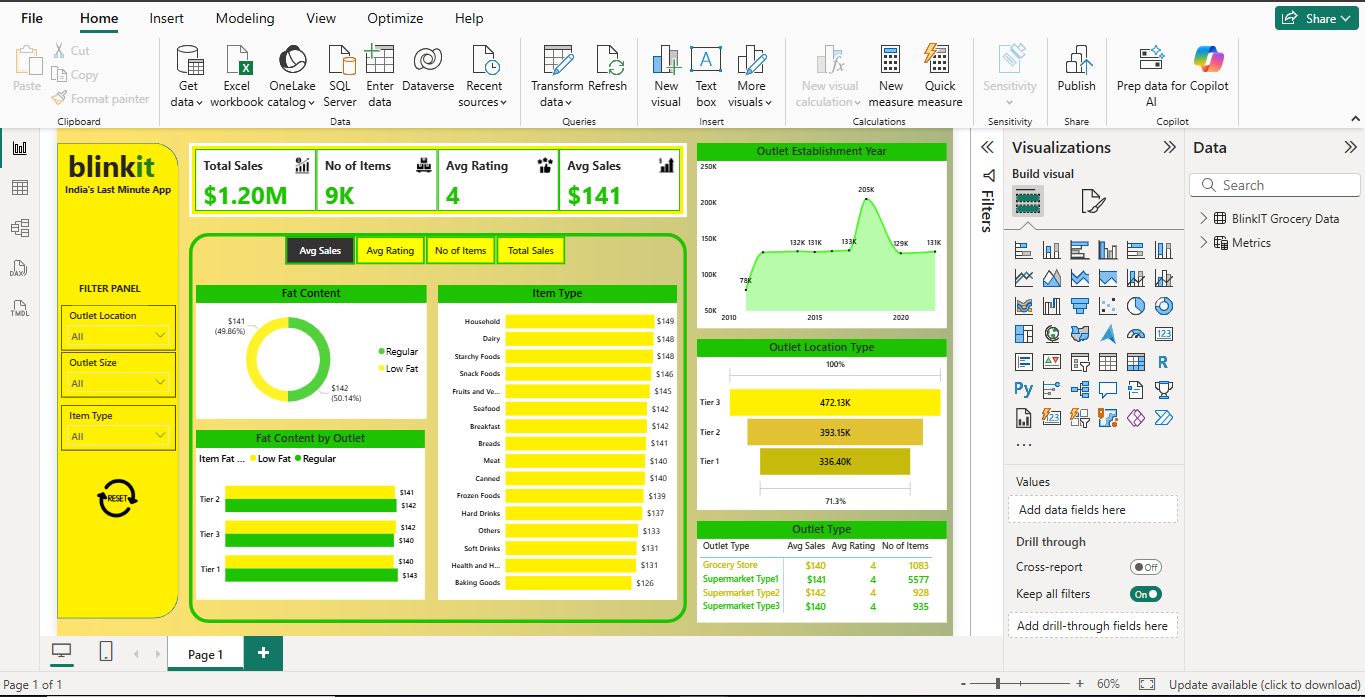

The page's visual inventory and layout, read from the dashboard file:
{"tool":"powerbi","page":{"name":"Page 1","canvas":[1500,850],"ordinal":0},"visuals":[{"type":"shape","box":[0,24.5,203.3,795.6],"z":0},{"type":"textbox","box":[0,25.3,176.8,77.4],"z":1000},{"type":"textbox","box":[0,87.5,203.7,40.4],"z":2000},{"type":"cardVisual","fields":{"Data":["BlinkIT Grocery Data.Total_Sales","BlinkIT Grocery Data.no_of_items","BlinkIT Grocery Data.avg_rating","BlinkIT Grocery Data.Avg_sales"]},"box":[220.5,25.2,833.1,124.4],"z":3000},{"type":"shape","box":[220.9,175.7,833.3,652.6],"z":4000},{"type":"slicer","fields":{"Values":["Metrics.Metrics"]},"box":[355.9,174.8,518.1,61.4],"z":5000},{"type":"donutChart","title":" Fat Content","fields":{"Y":["BlinkIT Grocery Data.Avg Sales"],"Category":["BlinkIT Grocery Data.Item Fat Content"]},"box":[232.3,262.6,385.5,223.9],"z":6000},{"type":"clusteredBarChart","title":" Fat Content by Outlet","fields":{"Y":["BlinkIT Grocery Data.Avg Sales"],"Category":["BlinkIT Grocery Data.Outlet Location Type"],"Series":["BlinkIT Grocery Data.Item Fat Content"]},"box":[232.6,505.3,383.2,284.4],"z":7000},{"type":"barChart","title":" Item Type","fields":{"Y":["BlinkIT Grocery Data.Avg Sales"],"Category":["BlinkIT Grocery Data.Item Type"]},"box":[637.5,262.7,399.9,527.1],"z":8000},{"type":"lineChart","title":" Outlet Establishment Year","fields":{"Y":["BlinkIT Grocery Data.Total Sales"],"Category":["BlinkIT Grocery Data.Outlet Establishment Year"]},"box":[1070.7,25.3,417.5,309.8],"z":9000},{"type":"funnel","title":" Outlet Location Type","fields":{"Category":["BlinkIT Grocery Data.Outlet Location Type"],"Y":["Sum(BlinkIT Grocery Data.Sales)"]},"box":[1070.7,353.5,417.5,286.2],"z":10000},{"type":"pivotTable","title":"Outlet Type","fields":{"Values":["BlinkIT Grocery Data.Avg Sales","BlinkIT Grocery Data.Avg Rating","BlinkIT Grocery Data.No of Items"],"Rows":["BlinkIT Grocery Data.Outlet Type"]},"box":[1070.7,658.2,417.5,170],"z":11000},{"type":"slicer","fields":{"Values":["BlinkIT Grocery Data.Outlet Location Type"]},"box":[6.7,296.3,191.9,75.8],"z":12000},{"type":"slicer","fields":{"Values":["BlinkIT Grocery Data.Outlet Size"]},"box":[6.7,375.4,191.9,75.8],"z":13000},{"type":"slicer","fields":{"Values":["BlinkIT Grocery Data.Item Type"]},"box":[6.7,463,191.9,75.8],"z":14000},{"type":"textbox","box":[25.3,252.5,126.3,43.8],"z":15000},{"type":"image","box":[38.6,578.3,124.4,80.6],"z":16000}]}

Visuals, with their boxes on the page's 1500x850 design canvas (x1, y1, x2, y2). These are canvas units, not pixel positions in the 1365x697 screenshot, which may show the page scaled, cropped or inside an application window:
shape: {"left": 0, "top": 24, "right": 203, "bottom": 820}
textbox: {"left": 0, "top": 25, "right": 177, "bottom": 103}
textbox: {"left": 0, "top": 88, "right": 204, "bottom": 128}
cardVisual - BlinkIT Grocery Data.Total_Sales x BlinkIT Grocery Data.no_of_items: {"left": 220, "top": 25, "right": 1054, "bottom": 150}
shape: {"left": 221, "top": 176, "right": 1054, "bottom": 828}
slicer - Metrics.Metrics: {"left": 356, "top": 175, "right": 874, "bottom": 236}
" Fat Content" donutChart: {"left": 232, "top": 263, "right": 618, "bottom": 486}
" Fat Content by Outlet" clusteredBarChart: {"left": 233, "top": 505, "right": 616, "bottom": 790}
" Item Type" barChart: {"left": 638, "top": 263, "right": 1037, "bottom": 790}
" Outlet Establishment Year" lineChart: {"left": 1071, "top": 25, "right": 1488, "bottom": 335}
" Outlet Location Type" funnel: {"left": 1071, "top": 354, "right": 1488, "bottom": 640}
"Outlet Type" pivotTable: {"left": 1071, "top": 658, "right": 1488, "bottom": 828}
slicer - BlinkIT Grocery Data.Outlet Location Type: {"left": 7, "top": 296, "right": 199, "bottom": 372}
slicer - BlinkIT Grocery Data.Outlet Size: {"left": 7, "top": 375, "right": 199, "bottom": 451}
slicer - BlinkIT Grocery Data.Item Type: {"left": 7, "top": 463, "right": 199, "bottom": 539}
textbox: {"left": 25, "top": 252, "right": 152, "bottom": 296}
image: {"left": 39, "top": 578, "right": 163, "bottom": 659}
